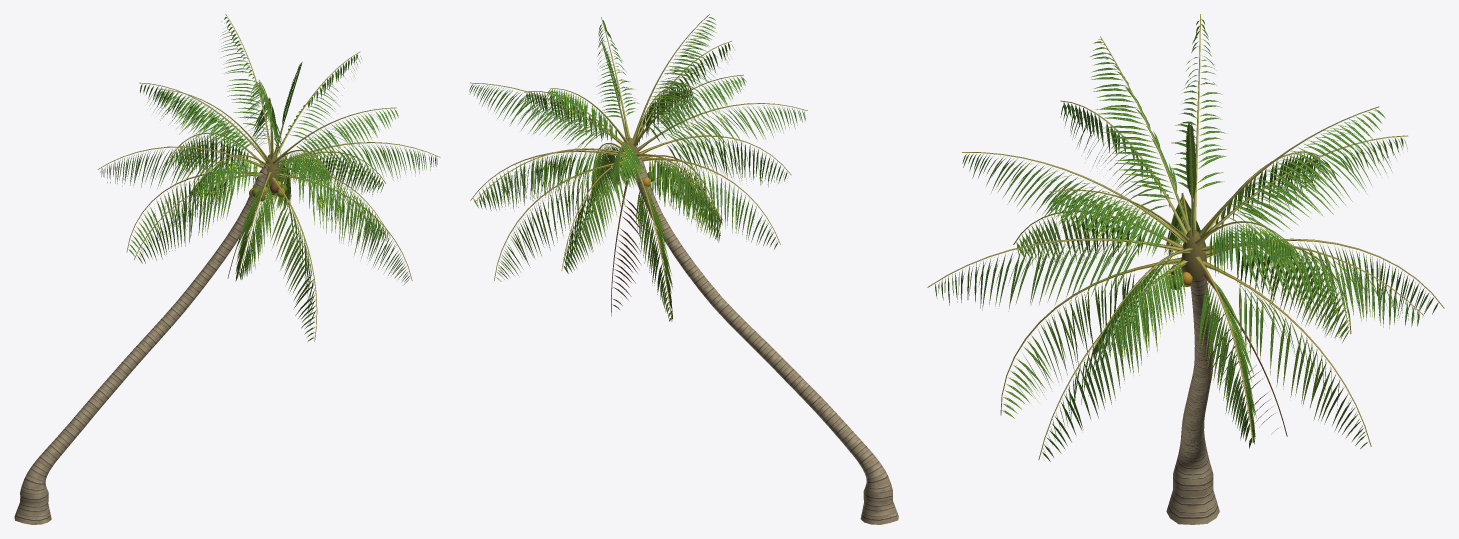
3 views of the same model, side by side, from view 1: azimuth 30°, elevation 25°; view 2: azimuth 150°, elevation 25°; view 3: azimuth 270°, elevation 25° (orthographic). The views are drawn at different scales.
Visible parts, largest first — view 1: fronds, trunk, crown_husk; view 2: fronds, trunk, crown_husk; view 3: fronds, trunk, crown_husk.
Boxes of the visible parts, x1,y1,x2,y2 form: fronds: [97, 14, 440, 341]; trunk: [14, 166, 267, 524]; crown_husk: [227, 153, 287, 278]; fronds: [469, 14, 807, 321]; trunk: [633, 152, 898, 524]; crown_husk: [611, 137, 654, 316]; fronds: [927, 14, 1444, 461]; trunk: [1166, 276, 1219, 524]; crown_husk: [1168, 230, 1287, 436].
Size of the model in its own units: 12.32 by 12.47 by 9.42.
3 materials, 3 textured.
